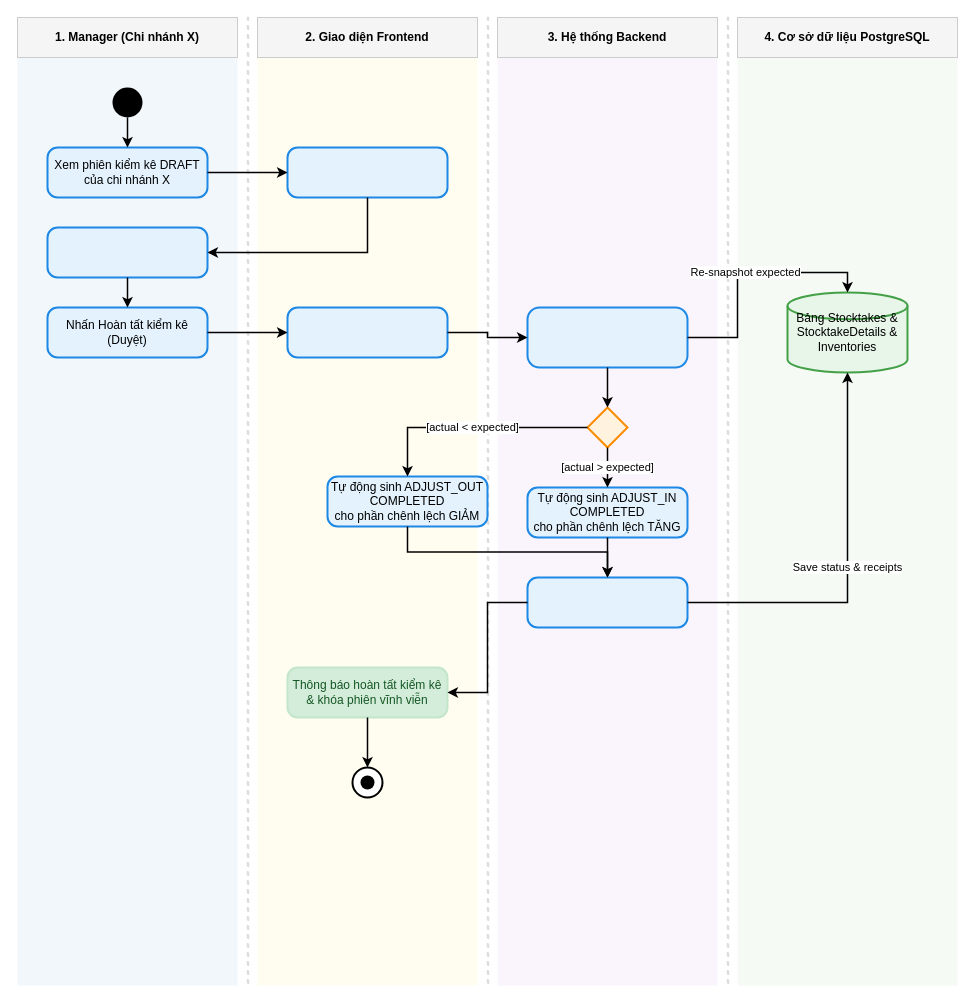
Some shapes in this 975 by 1004 pixel diagram are drawn without their labels. Here are the shapes that lost their labels. From the top down, the box of each, then its label:
(286, 146, 448, 198): Hiển thị danh sách dòng kiểm kê (expected vs actual)
(46, 226, 208, 278): Kiểm tra Staff đã nhập đủ actual_quantity chưa
(286, 306, 448, 358): Gửi yêu cầu hoàn tất kiểm kê
(526, 306, 688, 368): 1. Re-snapshot expected_quantity 2. Tính chênh lệch từng dòng
(526, 576, 688, 628): 1. Đồng bộ tồn kho trong DB 2. Phiên kiểm kê → COMPLETED
